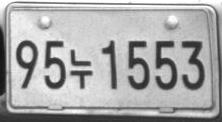1: (97, 40, 123, 89)
3: (180, 40, 206, 90)
5: (153, 39, 178, 90), (126, 40, 150, 90), (43, 40, 66, 89)
9: (15, 38, 39, 88)
누: (70, 48, 93, 89)
